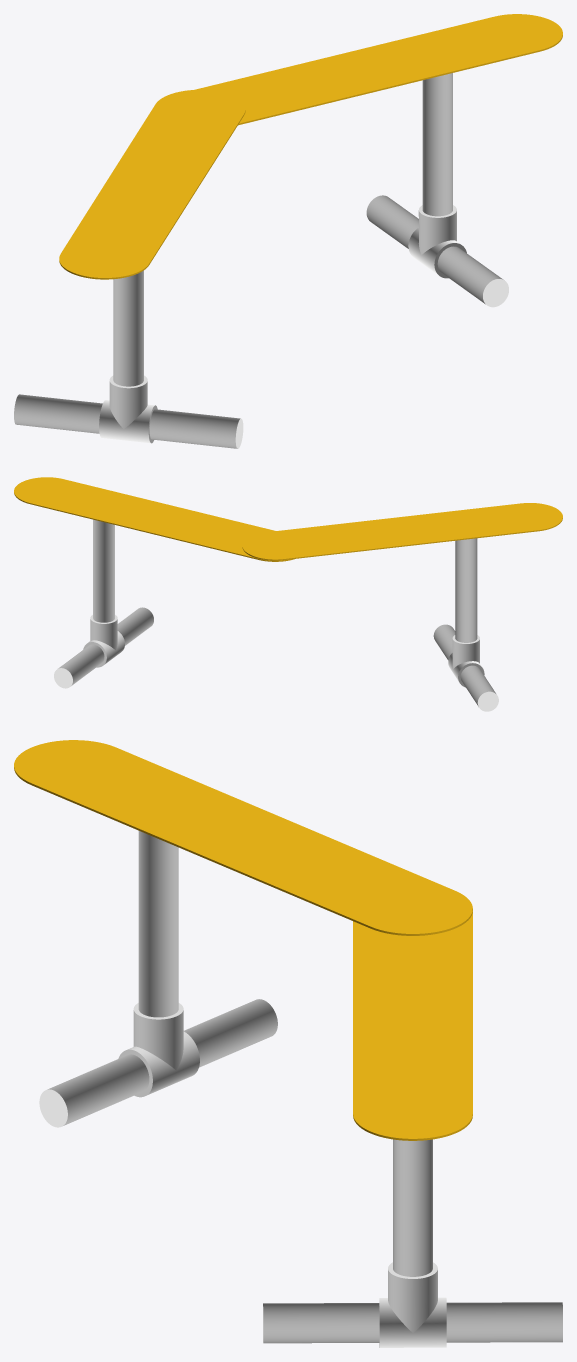
The model's file is path_marker_45cw.dae.
3 renders of one model, top to bottom at view 1: azimuth 30°, elevation 25°; view 2: azimuth 150°, elevation 25°; view 3: azimuth 270°, elevation 25°, orthographic. The views are drawn at different scales.
Visible parts, largest first — view 1: to_marker, from_marker, to_foot, from_leg, from_foot, to_leg, to_T_joint, from_T_joint; view 2: to_marker, from_marker, to_leg, from_leg, from_foot, to_foot, from_T_joint, to_T_joint; view 3: to_marker, from_marker, from_foot, to_foot, to_leg, from_leg, from_T_joint, to_T_joint.
Part boxes in pixels (bbox=[...]): to_marker: bbox=[59, 89, 245, 279]; from_marker: bbox=[194, 14, 562, 125]; to_foot: bbox=[14, 394, 243, 448]; from_leg: bbox=[422, 73, 452, 216]; from_foot: bbox=[366, 195, 508, 307]; to_leg: bbox=[113, 270, 143, 386]; to_T_joint: bbox=[99, 375, 157, 443]; from_T_joint: bbox=[408, 205, 466, 278]; to_marker: bbox=[242, 503, 562, 560]; from_marker: bbox=[14, 477, 294, 561]; to_leg: bbox=[455, 538, 477, 642]; from_leg: bbox=[93, 519, 114, 622]; from_foot: bbox=[54, 607, 153, 688]; to_foot: bbox=[433, 624, 498, 711]; from_T_joint: bbox=[83, 615, 124, 667]; to_T_joint: bbox=[448, 635, 484, 687]; to_marker: bbox=[14, 740, 472, 935]; from_marker: bbox=[353, 911, 472, 1140]; from_foot: bbox=[263, 1302, 562, 1343]; to_foot: bbox=[39, 999, 277, 1127]; to_leg: bbox=[138, 831, 178, 1017]; from_leg: bbox=[393, 1139, 432, 1276]; from_T_joint: bbox=[379, 1262, 446, 1347]; to_T_joint: bbox=[118, 1003, 199, 1097].
Bounding box in the file's own units: 1.19 × 0.6979 × 0.3994.
